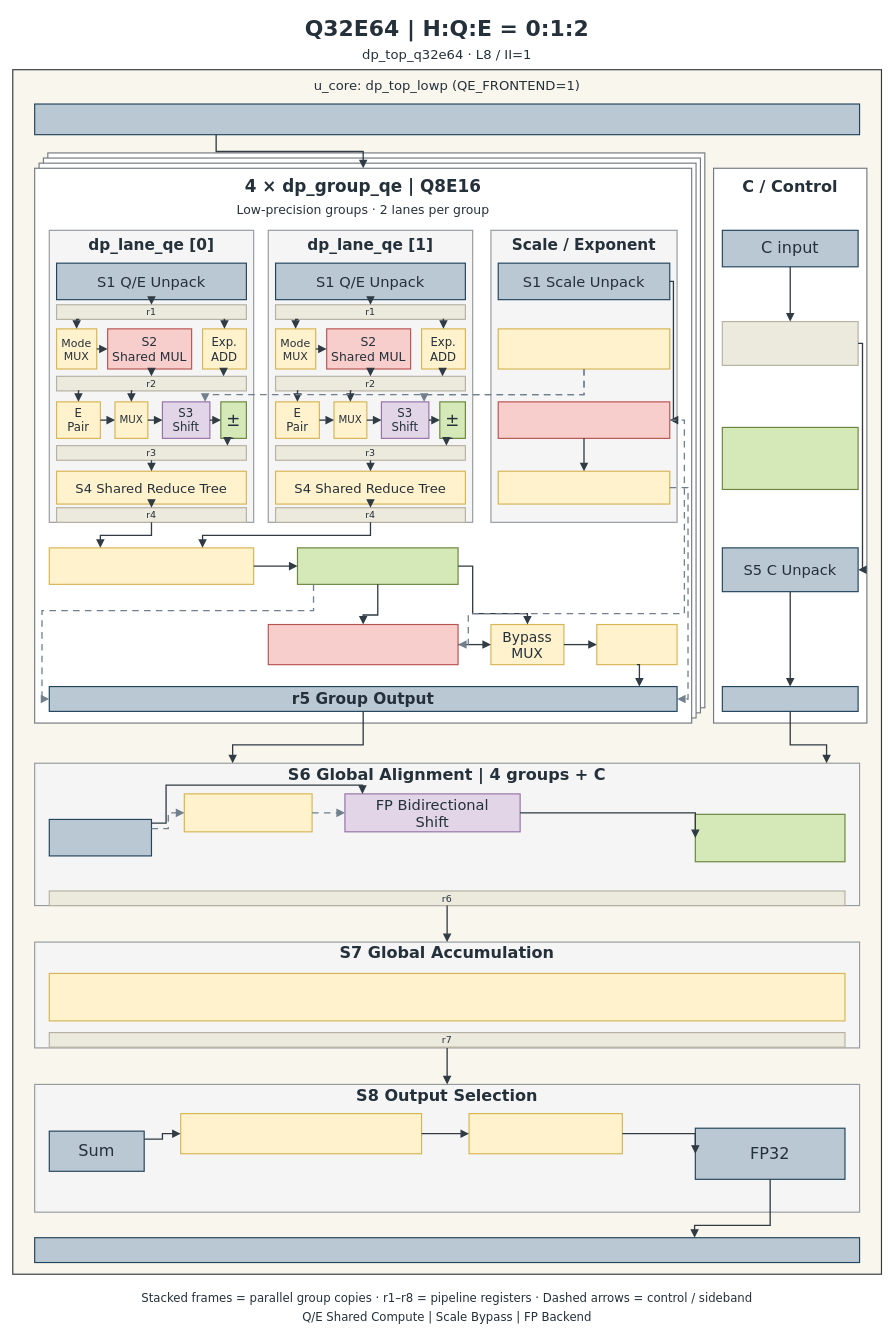
The diagram is 895 pixels wide and 1337 high, and some of its shapes have lost their labels. The shapes that lost their labels are listed below. From the top down, each one's box as (x1, y1, x2, y2) in pixels, then its label:
(34, 103, 860, 135): A / B · Datatype · Scale · HiF4 metadata
(497, 328, 670, 369): S2 Group MAX
(721, 321, 858, 366): S1–S4 C Delay
(497, 401, 670, 439): S2 Scale MUL Scale Exp.ADD
(721, 426, 858, 490): Precision Gating
(497, 470, 670, 504): S5 Anchor
(48, 547, 254, 585): S5 Group Adder
(297, 547, 458, 585): Abs / Sign Split
(267, 624, 458, 665): S5 Scale MUL NVFP4 / HiF4
(596, 624, 677, 665): S5 LZD
(721, 686, 858, 712): r5 C Output
(183, 793, 312, 832): Group + C MAX
(48, 818, 152, 856): Source Mask / Pack
(694, 813, 845, 862): Sign Restore
(48, 973, 845, 1021): Adder Tree (4 groups + C)
(180, 1113, 422, 1154): FP Normalize / Round
(468, 1113, 623, 1154): Special MUX
(34, 1237, 860, 1263): r8 D / out_valid / out_last
